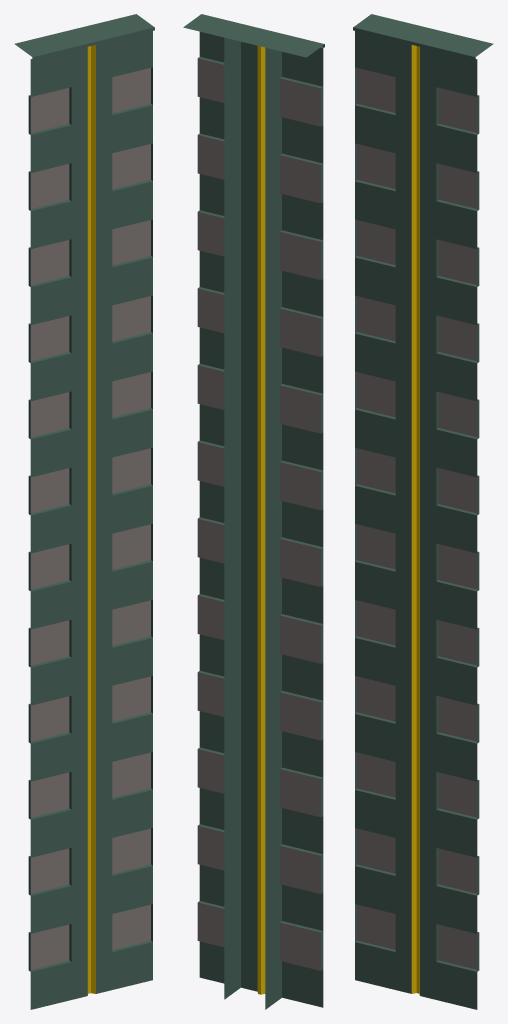
3 renders of one model, left to right at view 1: azimuth 30°, elevation 25°; view 2: azimuth 150°, elevation 25°; view 3: azimuth 330°, elevation 25°, orthographic.
Visible parts, largest first — view 1: Column.043; view 2: Column.043; view 3: Column.043.
Boxes of the visible parts, x1,y1,x2,y2 form: Column.043: [14, 14, 154, 1009]; Column.043: [183, 14, 324, 1009]; Column.043: [353, 14, 493, 1009].
Size of the model in its own units: 835 by 6223 by 217.
